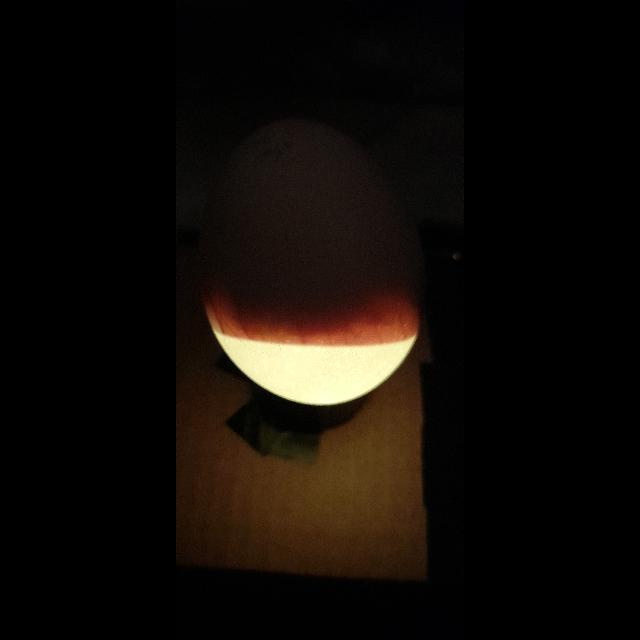Fertile: (195, 126, 428, 410)
